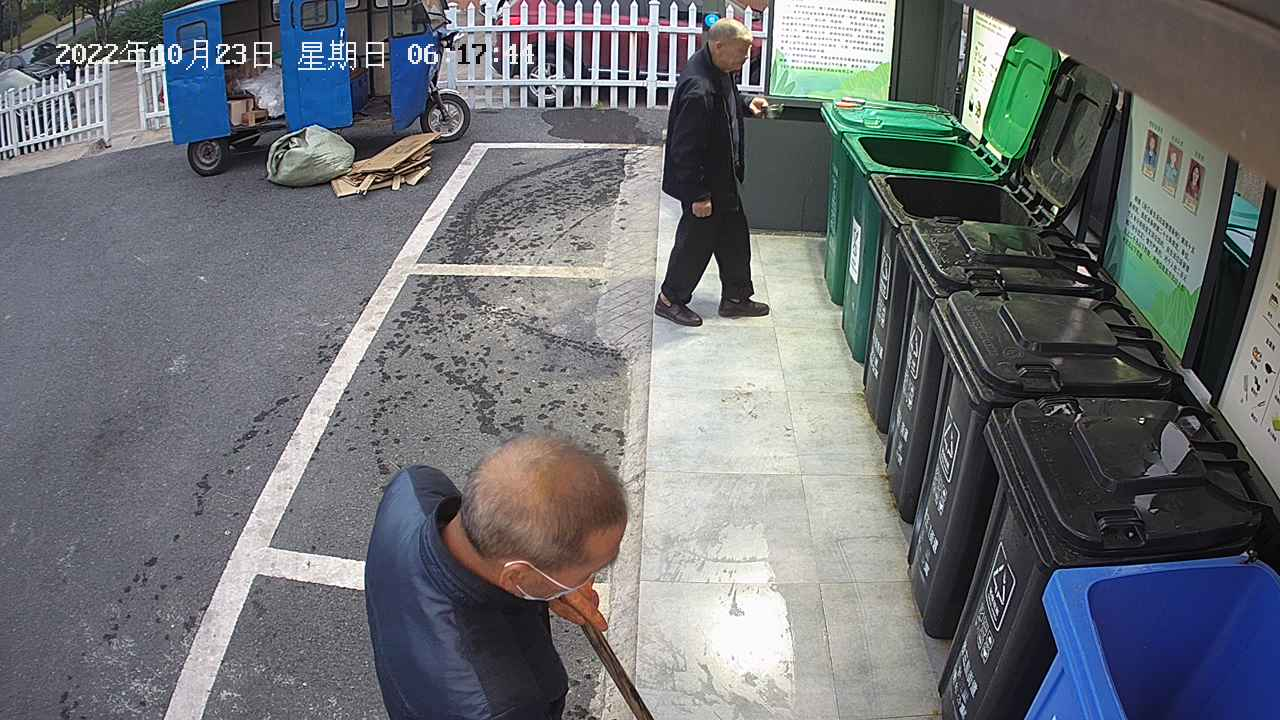garbage-bag: (261, 120, 358, 190)
person: (353, 424, 635, 720), (651, 12, 786, 330)
zhizhipin: (328, 129, 450, 200)
